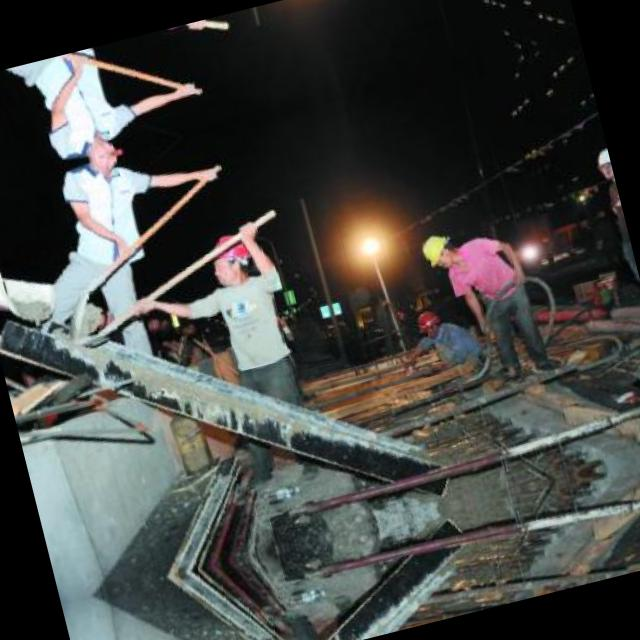helmet: (206, 234, 256, 286), (418, 228, 461, 274), (588, 144, 614, 191), (412, 306, 446, 341)
